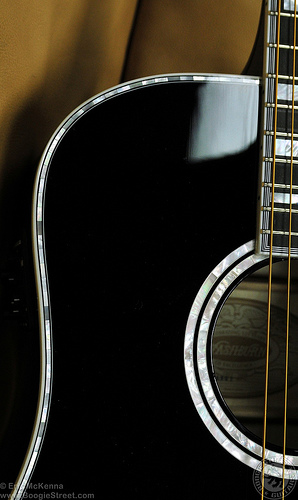guitar: (9, 1, 296, 500)
